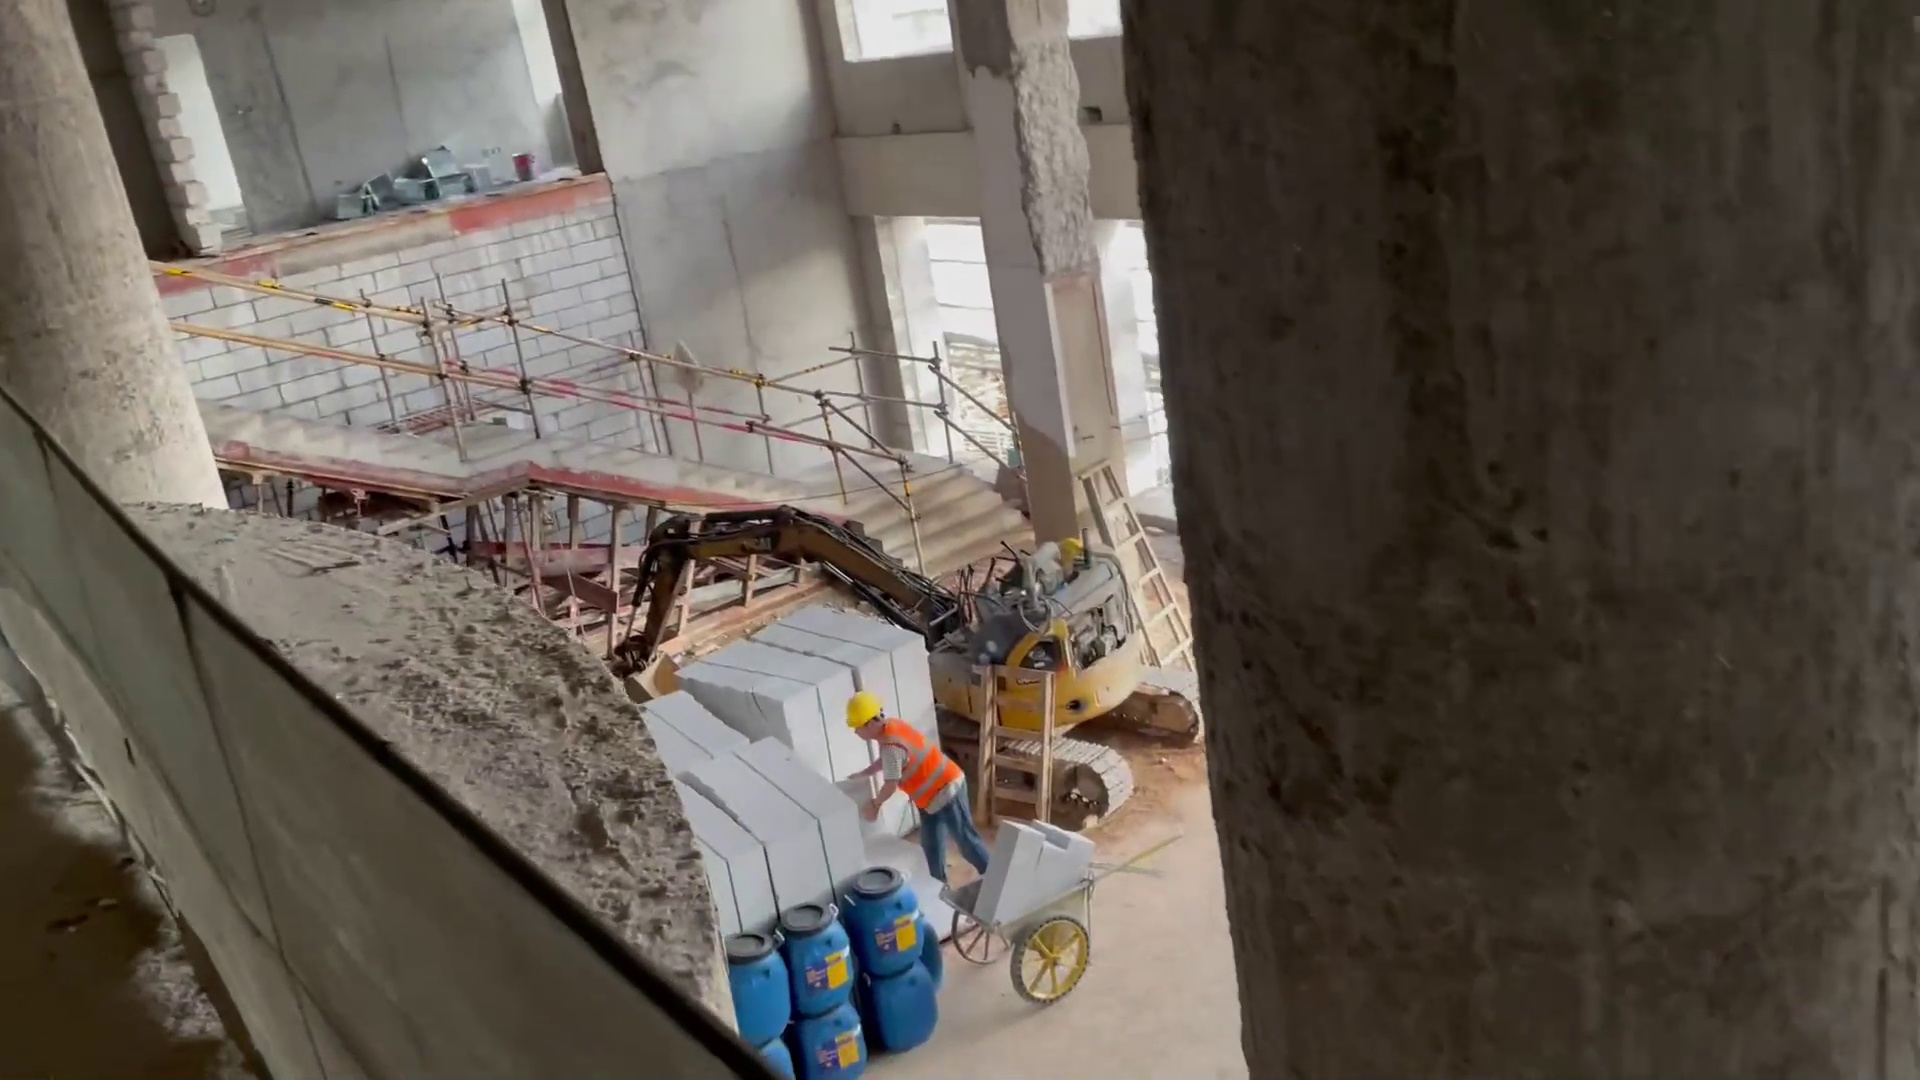helmet: (841, 688, 884, 726)
person: (838, 686, 997, 882)
vest: (866, 729, 964, 808)
